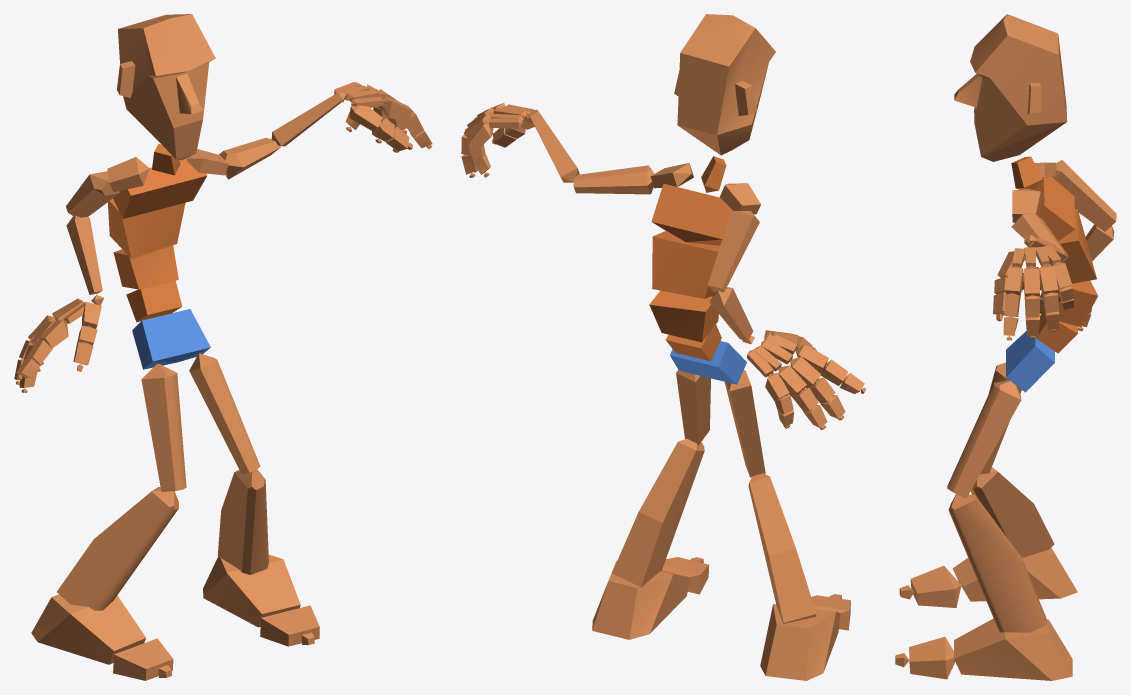
File: personaje327.obj
The picture shows the model from 3 angles, left to right: view 1: azimuth 30°, elevation 25°; view 2: azimuth 150°, elevation 25°; view 3: azimuth 270°, elevation 25°; orthographic projection.
Parts seen in each view (by area): view 1: BOPED_Head, BOPED_R_leg, BOPED_R_foot, BOPED_L_leg, BOPED_R_foot01, BOPED_R_legup, BOPED_L_legup, Bone01, Bone04, Bone05, Bone03, BOPED_R_foot_toe04 (+8 smaller); view 2: BOPED_Head, BOPED_L_leg, BOPED_R_leg, BOPED_R_foot01, BOPED_R_foot, Bone05, Bone04, Bone03, BOPED_R_legup, BOPED_R_arm_upper, BOPED_L_legup, BOPED_L_arm_upper (+9 smaller); view 3: BOPED_Head, BOPED_L_leg, BOPED_R_foot01, BOPED_R_leg, BOPED_L_legup, BOPED_R_foot, Bone01, Bone05, BOPED_R_arm_upper, BOPED_R_foot_toe01, BOPED_R_foot_toe04, Bone04 (+11 smaller).
Part boxes in pixels (x1=…): BOPED_Head: x1=116, y1=14, x2=215, y2=160; BOPED_R_leg: x1=57, y1=487, x2=178, y2=610; BOPED_R_foot: x1=31, y1=594, x2=145, y2=664; BOPED_L_leg: x1=217, y1=469, x2=268, y2=574; BOPED_R_foot01: x1=203, y1=554, x2=300, y2=627; BOPED_R_legup: x1=141, y1=364, x2=186, y2=491; BOPED_L_legup: x1=189, y1=353, x2=260, y2=473; Bone01: x1=132, y1=309, x2=210, y2=369; Bone04: x1=107, y1=198, x2=185, y2=258; Bone05: x1=113, y1=158, x2=207, y2=218; Bone03: x1=113, y1=245, x2=178, y2=289; BOPED_R_foot_toe04: x1=260, y1=605, x2=319, y2=646; BOPED_Head: x1=674, y1=14, x2=775, y2=155; BOPED_L_leg: x1=612, y1=438, x2=704, y2=587; BOPED_R_leg: x1=748, y1=473, x2=816, y2=623; BOPED_R_foot01: x1=592, y1=560, x2=690, y2=639; BOPED_R_foot: x1=760, y1=604, x2=840, y2=680; Bone05: x1=651, y1=183, x2=732, y2=245; Bone04: x1=652, y1=231, x2=720, y2=298; Bone03: x1=649, y1=290, x2=718, y2=342; BOPED_R_legup: x1=724, y1=370, x2=765, y2=477; BOPED_R_arm_upper: x1=707, y1=211, x2=759, y2=292; BOPED_L_legup: x1=676, y1=370, x2=710, y2=445; BOPED_L_arm_upper: x1=573, y1=165, x2=654, y2=194; BOPED_Head: x1=954, y1=14, x2=1067, y2=161; BOPED_L_leg: x1=948, y1=494, x2=1046, y2=632; BOPED_R_foot01: x1=954, y1=618, x2=1072, y2=680; BOPED_R_leg: x1=970, y1=467, x2=1054, y2=557; BOPED_L_legup: x1=947, y1=380, x2=1021, y2=498; BOPED_R_foot: x1=952, y1=547, x2=1077, y2=601; Bone01: x1=1006, y1=331, x2=1054, y2=392; Bone05: x1=1035, y1=176, x2=1075, y2=240; BOPED_R_arm_upper: x1=1051, y1=160, x2=1116, y2=231; BOPED_R_foot_toe01: x1=910, y1=565, x2=961, y2=607; BOPED_R_foot_toe04: x1=909, y1=636, x2=955, y2=679; Bone04: x1=1050, y1=209, x2=1096, y2=283.
Bounding box in the file's own units: 129 × 186 × 61.66.
